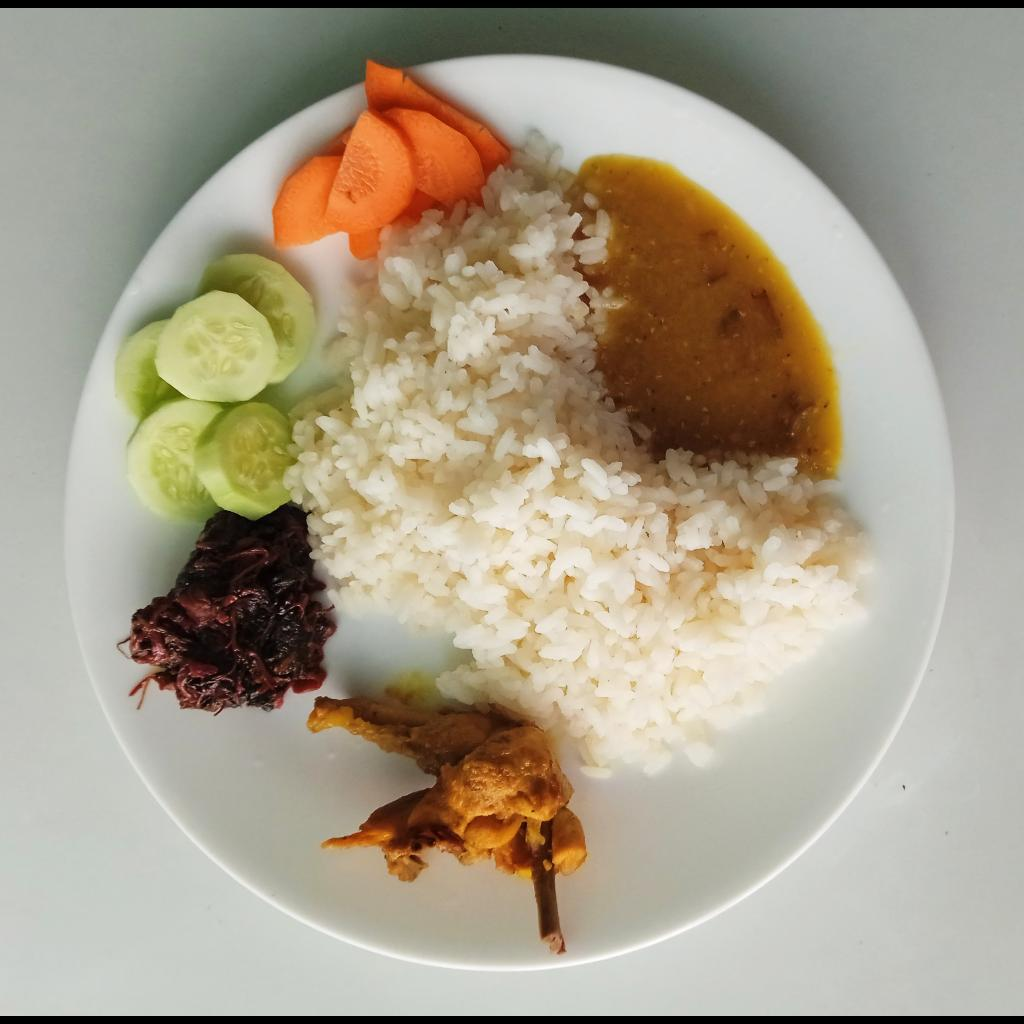carrot: (271, 60, 512, 263)
chicken: (303, 694, 589, 961)
cucumber: (113, 254, 319, 524)
daal: (561, 152, 844, 485)
lal-shak: (126, 508, 338, 711)
rice: (284, 136, 874, 773)
